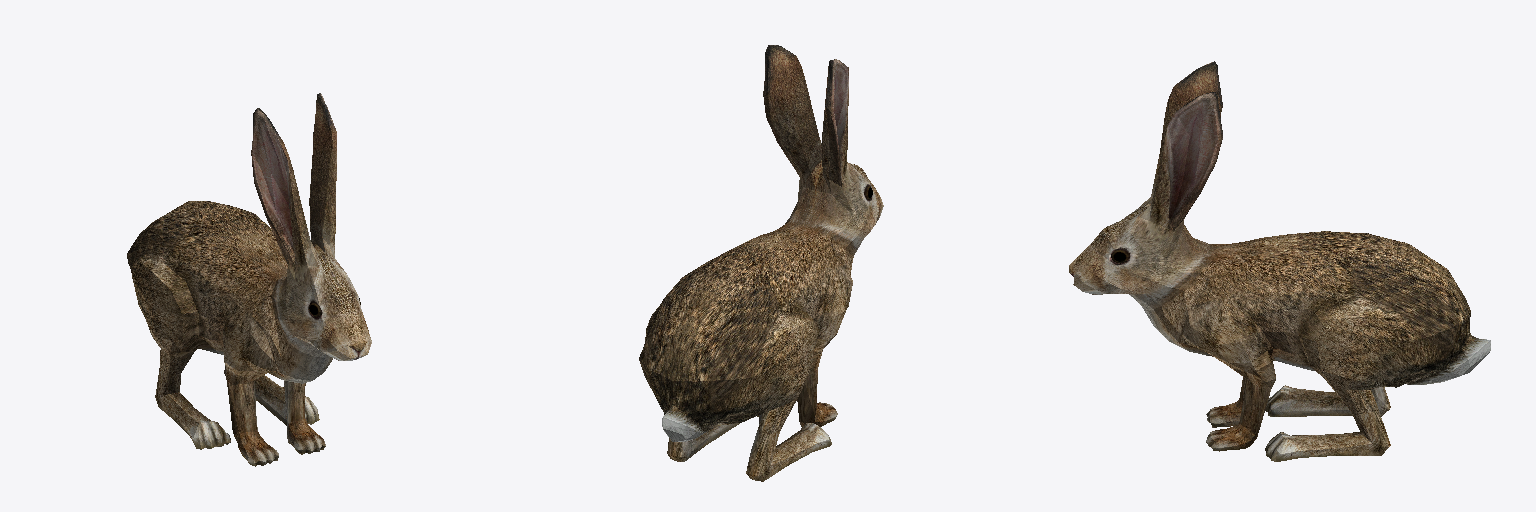
3 views of the same model, side by side, from view 1: azimuth 30°, elevation 25°; view 2: azimuth 150°, elevation 25°; view 3: azimuth 270°, elevation 25° (orthographic).
Size of the model in its own units: 0.464 by 1.17 by 1.25.
Materials: 1 (1 with a texture image).